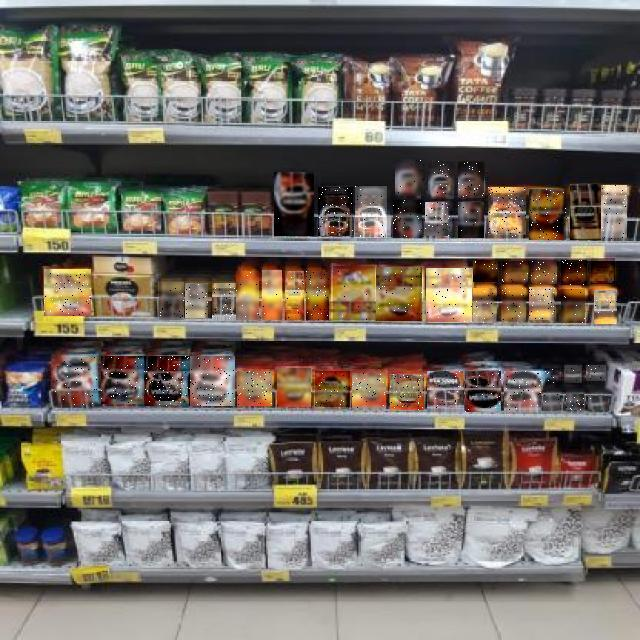Coffee: (275, 172, 315, 236), (376, 267, 422, 321), (426, 269, 472, 323), (144, 357, 190, 407), (333, 266, 375, 320), (190, 356, 235, 406), (44, 269, 91, 316), (53, 357, 98, 405), (101, 356, 144, 404), (530, 189, 568, 240), (488, 188, 526, 238), (356, 187, 390, 239), (570, 185, 601, 241), (318, 187, 353, 236), (465, 370, 501, 412), (504, 372, 541, 412), (427, 372, 464, 412), (601, 186, 627, 240), (277, 368, 311, 407), (315, 371, 350, 407), (237, 371, 272, 406), (352, 374, 386, 410), (390, 375, 424, 411), (236, 271, 259, 320), (306, 271, 329, 320), (393, 200, 422, 238), (395, 160, 423, 198), (263, 271, 283, 321), (428, 161, 454, 199), (159, 283, 184, 321), (459, 162, 485, 198), (458, 202, 484, 238), (285, 271, 304, 320), (426, 202, 452, 236), (530, 288, 556, 322), (212, 284, 236, 320), (186, 285, 210, 319), (561, 289, 585, 323), (502, 288, 526, 321), (594, 290, 617, 324), (474, 288, 496, 323), (561, 260, 587, 285), (591, 258, 615, 284), (531, 261, 557, 285), (503, 261, 529, 284), (473, 260, 498, 282), (586, 366, 606, 384), (564, 365, 582, 383), (543, 393, 560, 410), (567, 395, 585, 411), (589, 396, 609, 410), (545, 368, 560, 383)
